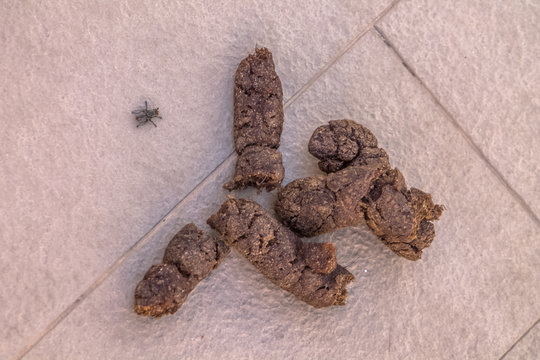Dog: (136, 52, 426, 316)
